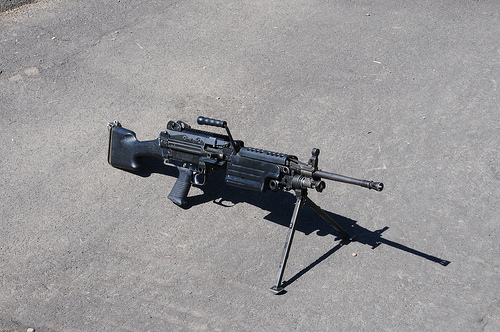rifle: (92, 94, 406, 298)
